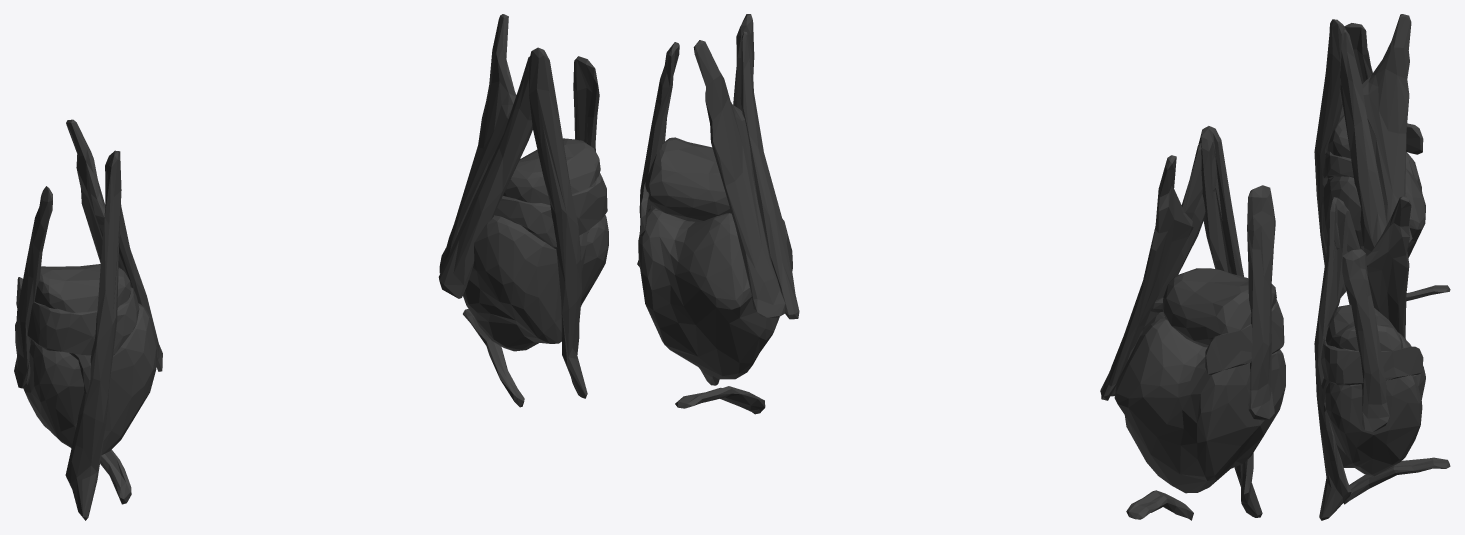
Rendered from FL_details_elbow.glb.
The picture shows the model from 3 angles, left to right: view 1: azimuth 30°, elevation 25°; view 2: azimuth 150°, elevation 25°; view 3: azimuth 270°, elevation 25°; orthographic projection. The views are drawn at different scales.
Visible parts, largest first — view 1: FL_details_elbow; view 2: FL_details_elbow; view 3: FL_details_elbow.
Part boxes in pixels (bbox=[...]): FL_details_elbow: bbox=[14, 14, 608, 520]; FL_details_elbow: bbox=[637, 14, 1285, 520]; FL_details_elbow: bbox=[1314, 14, 1450, 520].
Size of the model in its own units: 0.00423 by 0.00255 by 0.000998.
1 material, 1 textured.
